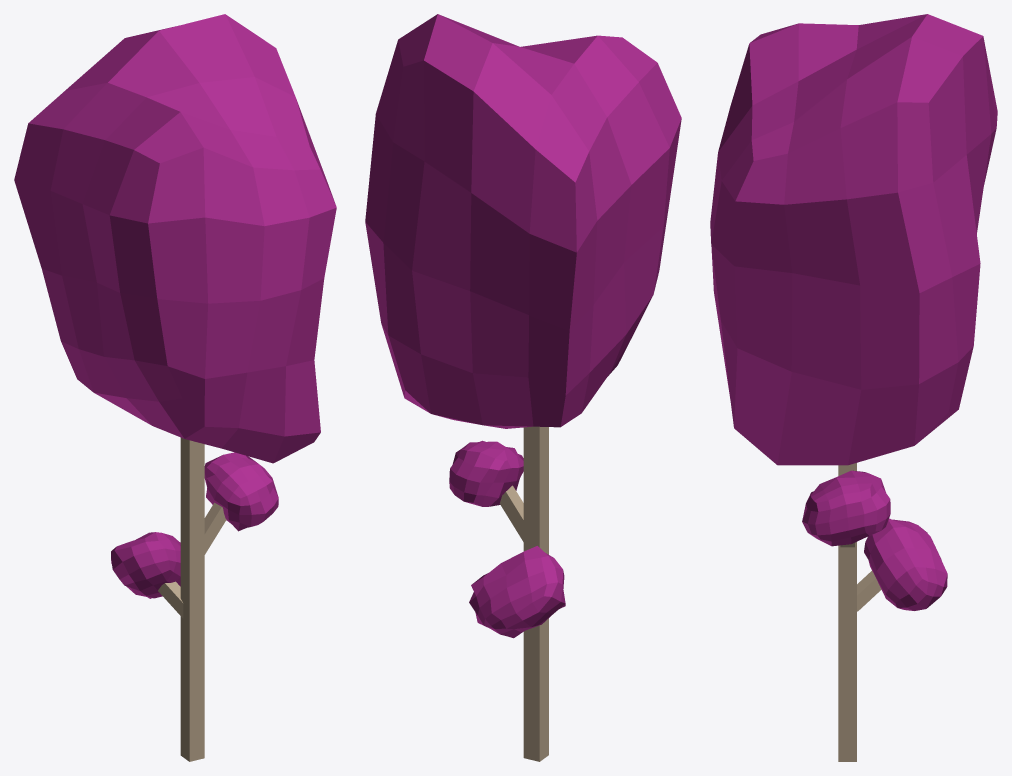
The model's file is Cherry tree 1.fbx.
The picture shows the model from 3 angles, left to right: view 1: azimuth 30°, elevation 25°; view 2: azimuth 150°, elevation 25°; view 3: azimuth 270°, elevation 25°; orthographic projection. The views are drawn at different scales.
Visible parts, largest first — view 1: Cube.002, Cube, Cube.003, Cube.004, Cube.001; view 2: Cube.002, Cube, Cube.004, Cube.003, Cube.001; view 3: Cube.002, Cube.004, Cube.003, Cube, Cube.005.
Boxes of the visible parts, x1,y1,x2,y2 form: Cube.002: [14, 14, 336, 463]; Cube: [180, 437, 204, 761]; Cube.003: [204, 452, 278, 531]; Cube.004: [111, 532, 180, 598]; Cube.001: [204, 502, 226, 554]; Cube.002: [365, 14, 681, 428]; Cube: [523, 426, 548, 761]; Cube.004: [469, 546, 565, 638]; Cube.003: [449, 440, 523, 506]; Cube.001: [499, 485, 523, 541]; Cube.002: [710, 14, 997, 465]; Cube.004: [864, 518, 947, 610]; Cube.003: [802, 470, 890, 546]; Cube: [838, 463, 856, 761]; Cube.005: [857, 571, 881, 611].
Size of the model in its own units: 344 by 985 by 340.
